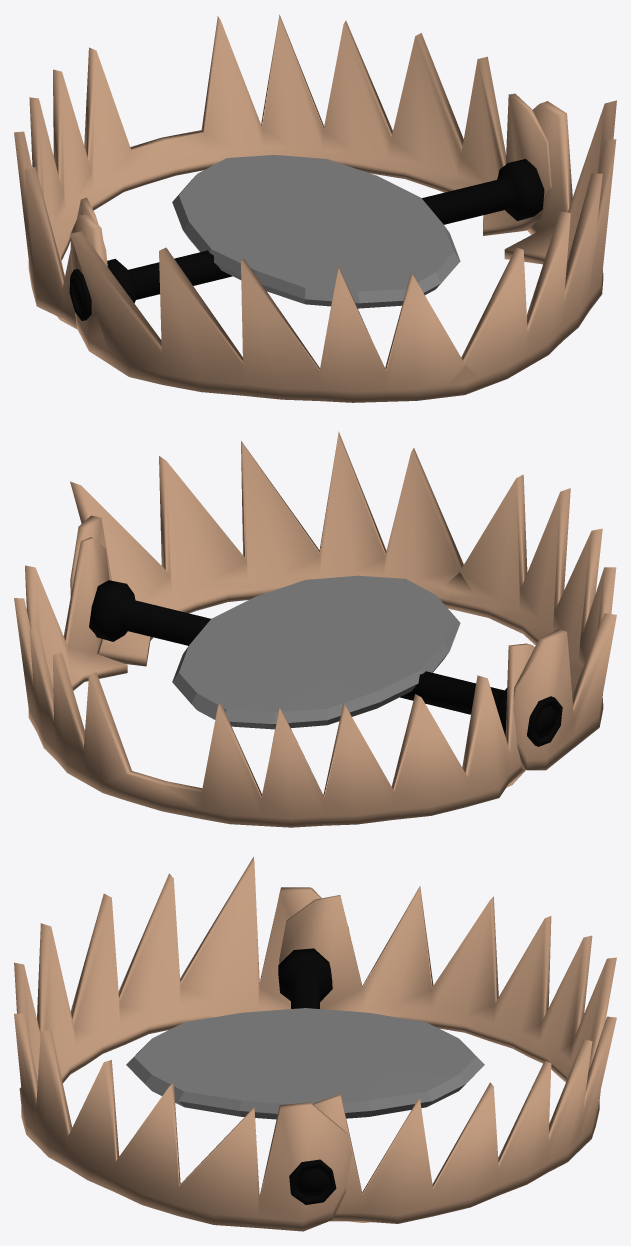
The model's file is Piege3.fbx.
3 views of the same model, one above another, from view 1: azimuth 30°, elevation 25°; view 2: azimuth 150°, elevation 25°; view 3: azimuth 270°, elevation 25° (orthographic). The views are drawn at different scales.
Parts seen in each view (by area): view 1: MSH_Piege_inf, MSH_Piege_sup, Circle; view 2: MSH_Piege_sup, MSH_Piege_inf, Circle; view 3: MSH_Piege_sup, MSH_Piege_inf, Circle.
Part boxes in pixels (x1,y1,x2,y2): MSH_Piege_inf: (14, 14, 551, 329); MSH_Piege_sup: (70, 100, 616, 402); Circle: (172, 155, 460, 308); MSH_Piege_sup: (70, 431, 616, 770); MSH_Piege_inf: (14, 537, 562, 827); Circle: (172, 575, 460, 729); MSH_Piege_sup: (14, 857, 351, 1231); MSH_Piege_inf: (278, 886, 616, 1223); Circle: (126, 1008, 484, 1119).
Bounding box in the file's own units: 76.22 × 20.76 × 76.13.
